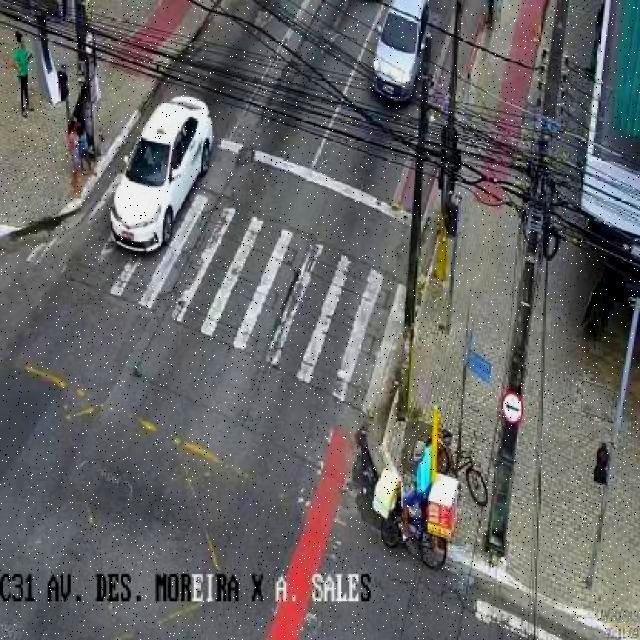Car: (108, 96, 214, 254), (370, 0, 432, 107)
Cycle: (379, 484, 452, 570), (432, 429, 490, 508)
